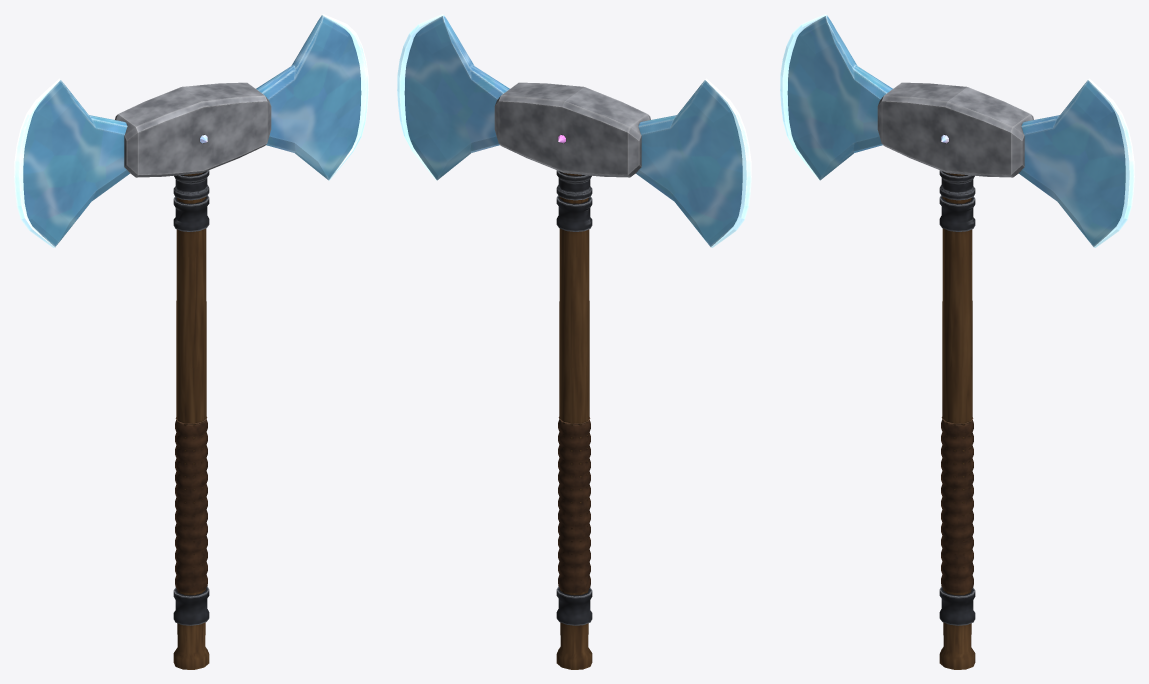
The model's file is crystal-weapon-battleaxe.glb.
3 renders of one model, left to right at view 1: azimuth 30°, elevation 25°; view 2: azimuth 150°, elevation 25°; view 3: azimuth 330°, elevation 25°, orthographic.
Parts seen in each view (by area): view 1: head-core, left-head, right-head, long-haft, grip-wrap, left-edge, band-low, right-edge, band-mid, band-high; view 2: head-core, left-head, right-head, long-haft, grip-wrap, left-edge, band-low, right-edge, band-mid, band-high; view 3: head-core, right-head, left-head, long-haft, grip-wrap, right-edge, band-low, left-edge, band-mid, band-high.
Boxes of the visible parts, x1,y1,x2,y2 form: head-core: (115,82,271,177); left-head: (23,80,129,247); right-head: (256,15,361,180); long-haft: (173,173,209,669); grip-wrap: (175,417,207,592); left-edge: (14,78,60,247); band-low: (173,586,209,625); right-edge: (322,14,368,180); band-mid: (173,195,209,231); band-high: (173,170,209,200); head-core: (494,82,650,177); left-head: (636,80,742,247); right-head: (404,15,509,180); long-haft: (556,173,592,669); grip-wrap: (558,417,590,592); left-edge: (705,78,751,247); band-low: (556,586,592,625); right-edge: (397,14,443,180); band-mid: (556,195,592,231); band-high: (556,170,592,200); head-core: (877,82,1033,177); right-head: (1019,80,1125,247); left-head: (787,15,892,180); long-haft: (939,173,975,669); grip-wrap: (941,417,973,592); right-edge: (1088,78,1134,247); band-low: (939,586,975,625); left-edge: (780,14,826,180); band-mid: (939,195,975,231); band-high: (939,170,975,200).
Size of the model in its own units: 0.9334 by 1.56 by 0.148.
Materials: 11 (11 with a texture image).
